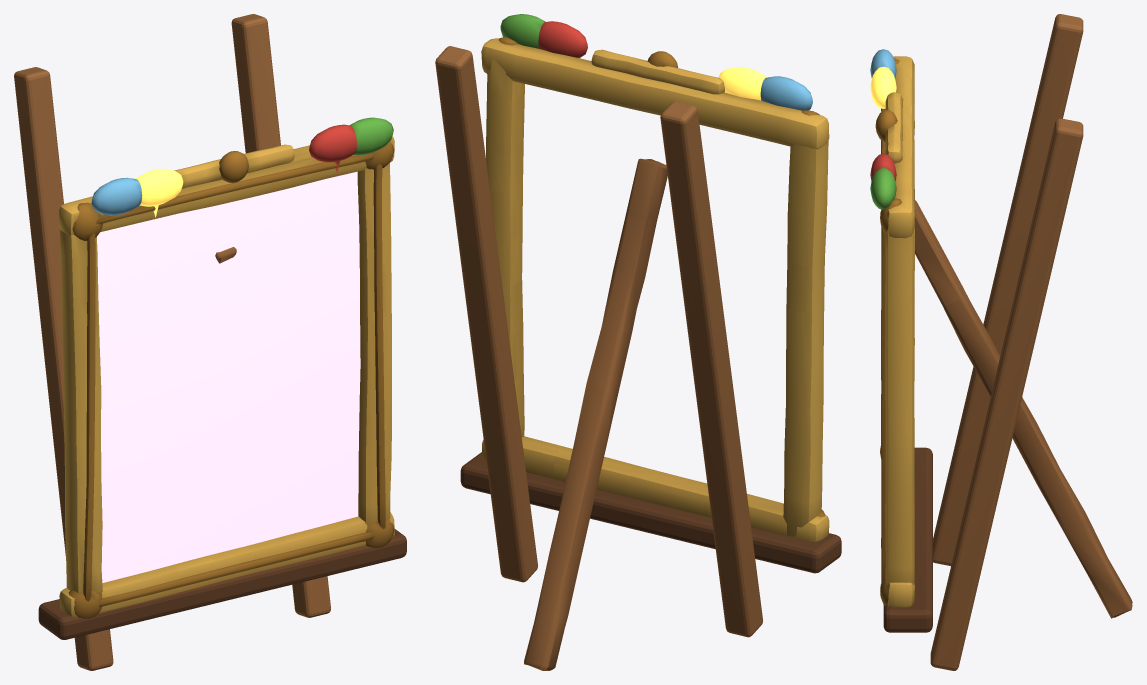
Rendered from int_portal_frame.glb.
The picture shows the model from 3 angles, left to right: view 1: azimuth 30°, elevation 25°; view 2: azimuth 150°, elevation 25°; view 3: azimuth 270°, elevation 25°; orthographic projection. The views are drawn at different scales.
Visible parts, largest first — view 1: portal_surface, int_portal_frame; view 2: int_portal_frame; view 3: int_portal_frame.
Boxes of the visible parts, <box> form: portal_surface: <box>97,171,360,582</box>; int_portal_frame: <box>14,14,406,670</box>; int_portal_frame: <box>435,14,841,670</box>; int_portal_frame: <box>870,14,1132,670</box>.
Size of the model in its own units: 4.8 by 7.3 by 3.19.
